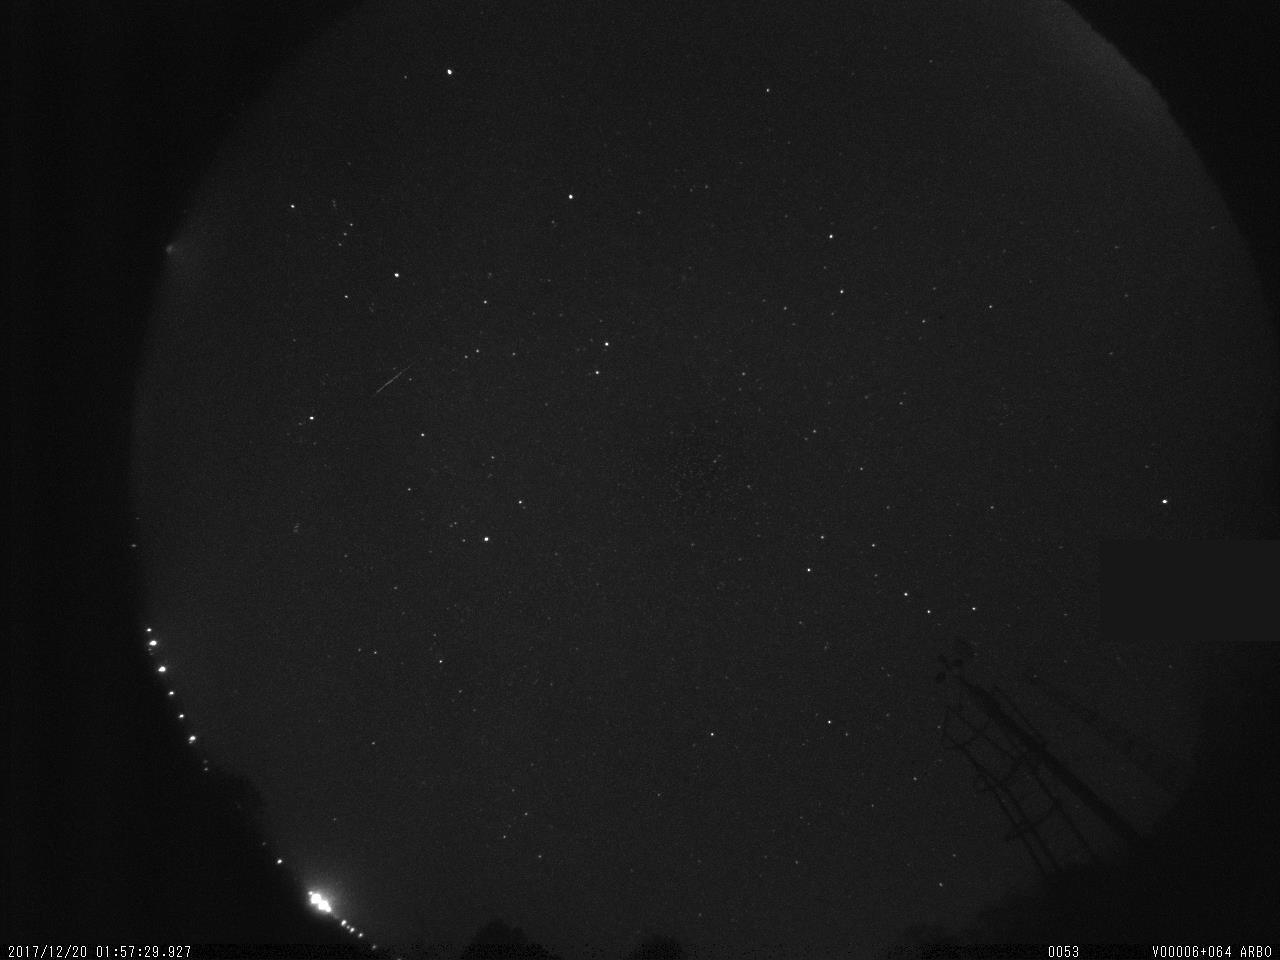meteor: (363, 361, 424, 402)
